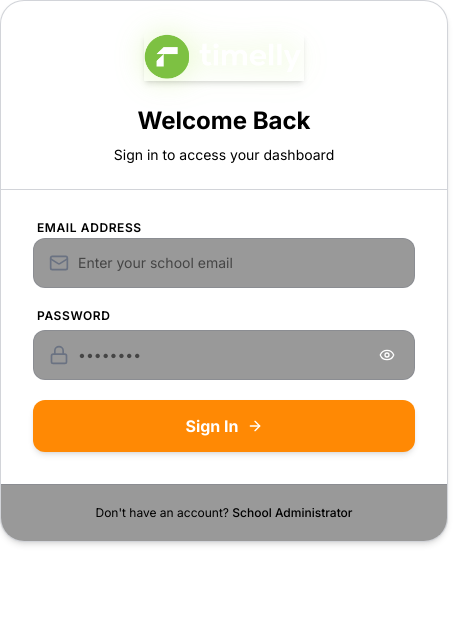
Scenario: LoginForm › shows deactivated message when error includes deactivated
Type "u@x.com" into the field with placeholder "Enter your school email" at (224, 263), box [33,238,415,288]
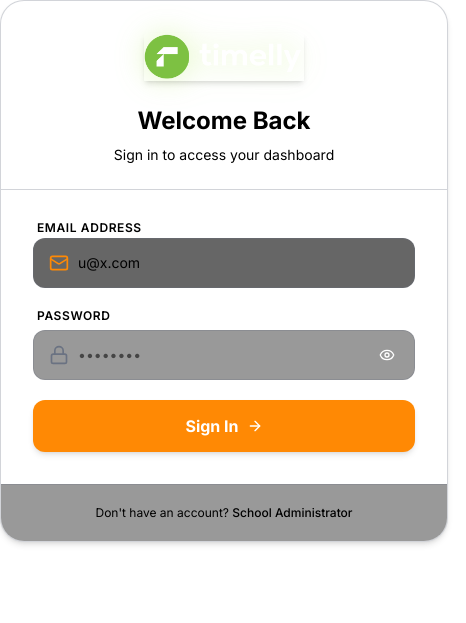
Type "p" into the password field with placeholder "••••••••" at (224, 355), box [33,330,415,380]
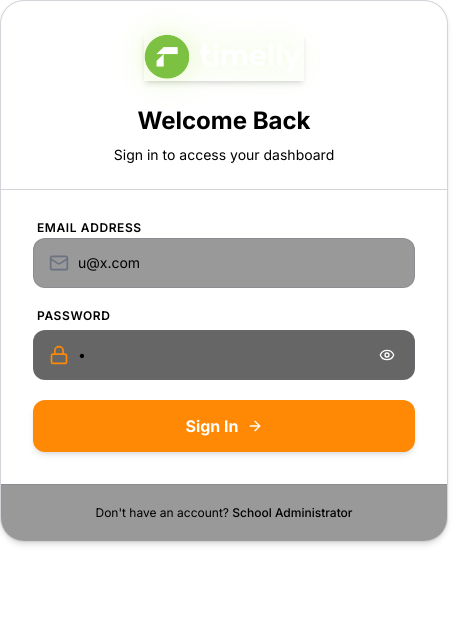
Submit the form from the button "Sign In", box [33,400,415,452]
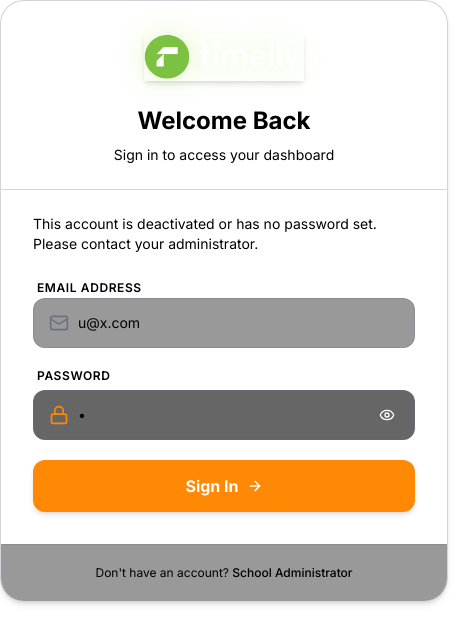
Result: the text "deactivated or has no password set" is shown at [33,215,377,252]
